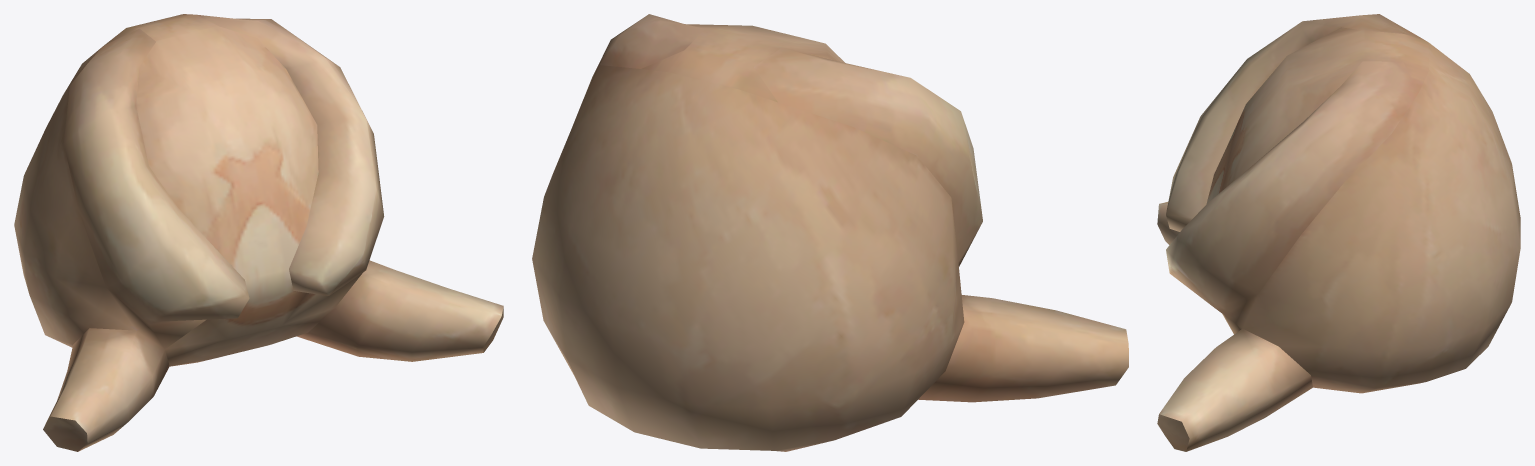
File: Homeworld_Ani_Exterior_Common_Decoration_Prop_WoodAranaraBodyC1_02_Vo.fbx
The picture shows the model from 3 angles, left to right: view 1: azimuth 30°, elevation 25°; view 2: azimuth 150°, elevation 25°; view 3: azimuth 270°, elevation 25°; orthographic projection. The views are drawn at different scales.
Visible parts, largest first — view 1: Homeworld_Ani_Exterior_Common_Decoration_Prop_WoodAranaraBod; view 2: Homeworld_Ani_Exterior_Common_Decoration_Prop_WoodAranaraBod; view 3: Homeworld_Ani_Exterior_Common_Decoration_Prop_WoodAranaraBod.
Part boxes in pixels (x1,y1,x2,y2): Homeworld_Ani_Exterior_Common_Decoration_Prop_WoodAranaraBod: (14,14,503,451); Homeworld_Ani_Exterior_Common_Decoration_Prop_WoodAranaraBod: (532,14,1128,451); Homeworld_Ani_Exterior_Common_Decoration_Prop_WoodAranaraBod: (1157,14,1520,451).
Bounding box in the file's own units: 0.7015 × 0.4495 × 0.4739.
